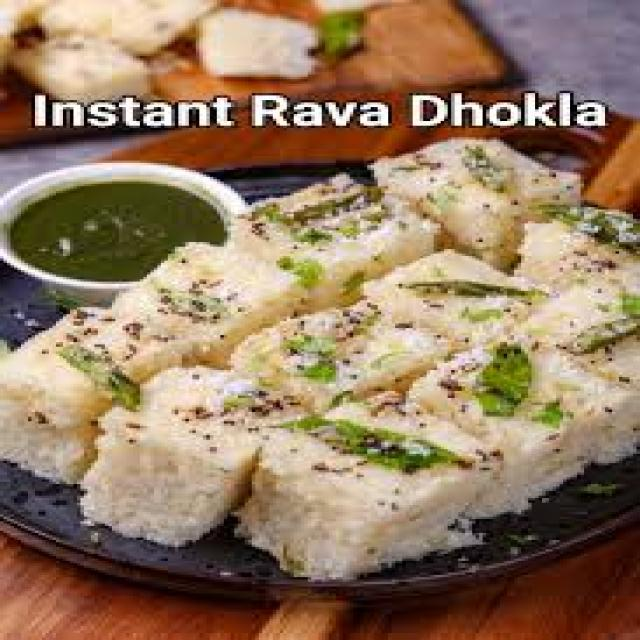DHOKLA: (225, 395, 491, 583), (82, 364, 302, 551), (412, 341, 635, 510), (6, 306, 190, 488), (376, 138, 580, 270), (228, 179, 426, 304), (241, 307, 455, 421), (131, 248, 293, 354), (367, 248, 536, 338), (534, 264, 637, 364)
